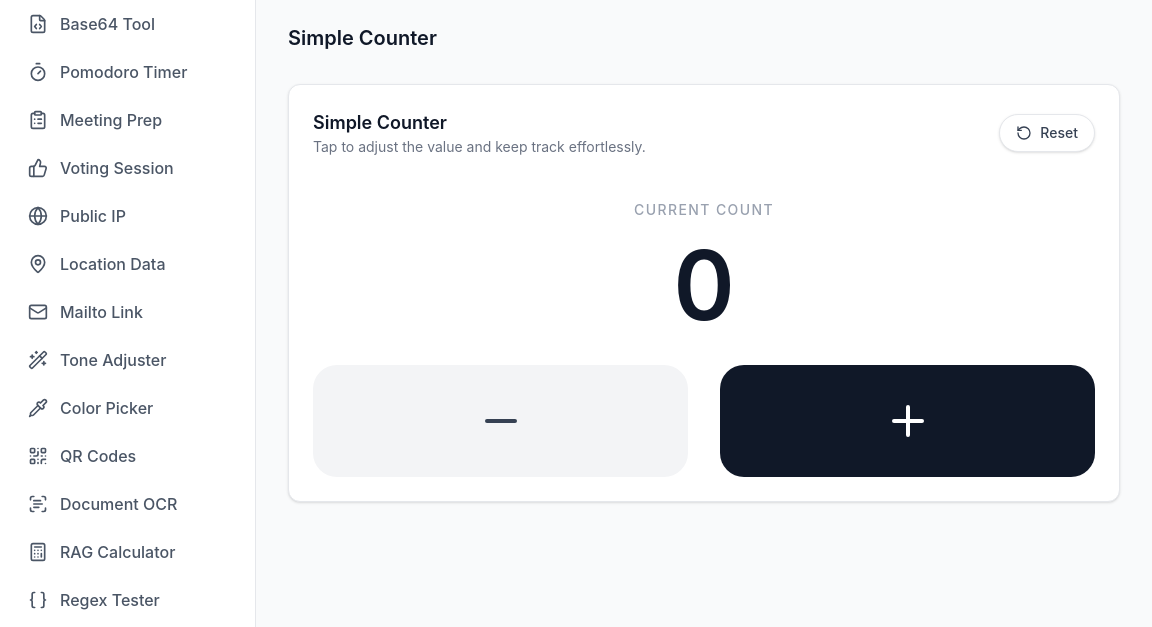
Test case: App › renders Content Tone Adjuster when selecting Tone Adjuster
(page scrolled)
Step 1. Click the button "Tone Adjuster" → [128, 360], box left=16, top=340, right=239, bottom=380
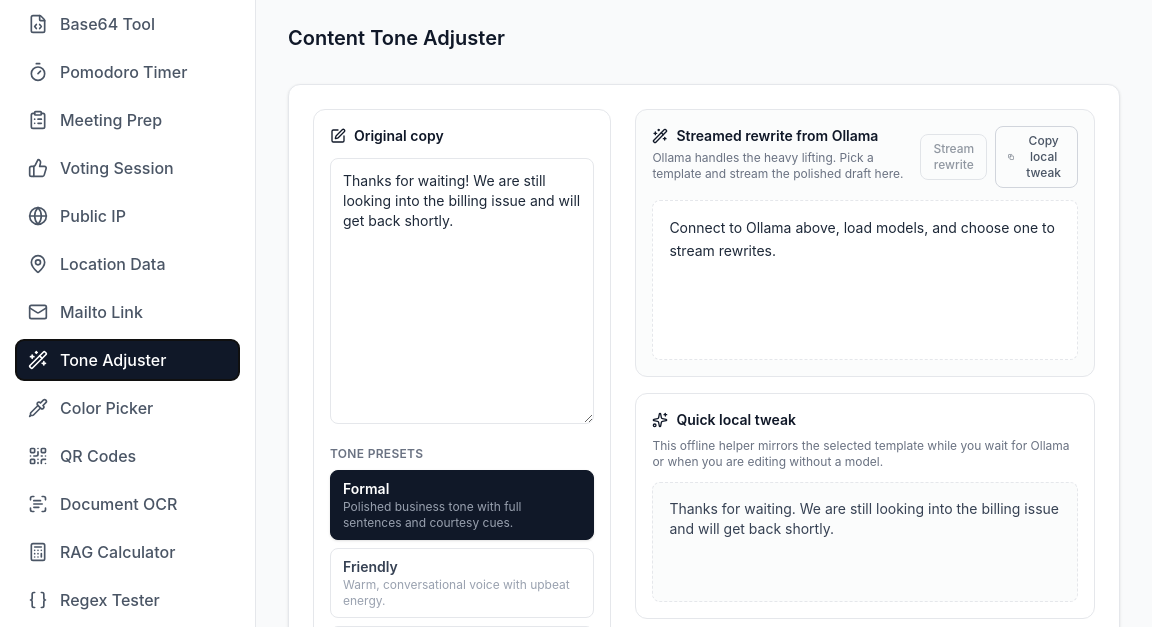
Check: the heading "Content Tone Adjuster" is shown, box left=288, top=24, right=505, bottom=52
Check: the text "Original copy" is shown, box left=354, top=126, right=444, bottom=146
